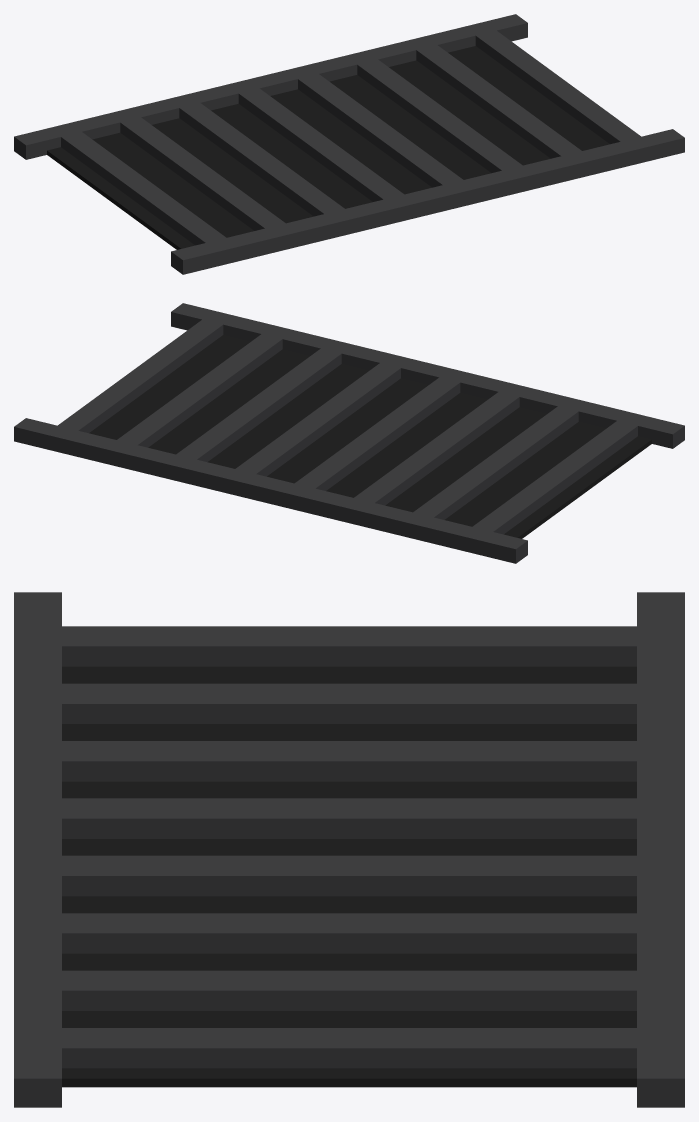
The model's file is drain_grate.glb.
3 views of the same model, one above another, from view 1: azimuth 30°, elevation 25°; view 2: azimuth 150°, elevation 25°; view 3: azimuth 270°, elevation 25° (orthographic). The views are drawn at different scales.
Visible parts, largest first — view 1: drain_grate; view 2: drain_grate; view 3: drain_grate.
Part boxes in pixels (x1,y1,x2,y2): drain_grate: (14,14,684,274); drain_grate: (14,303,684,563); drain_grate: (14,592,684,1107).
Bounding box in the file's own units: 0.72 × 0.02 × 0.42.
1 material, 1 textured.
